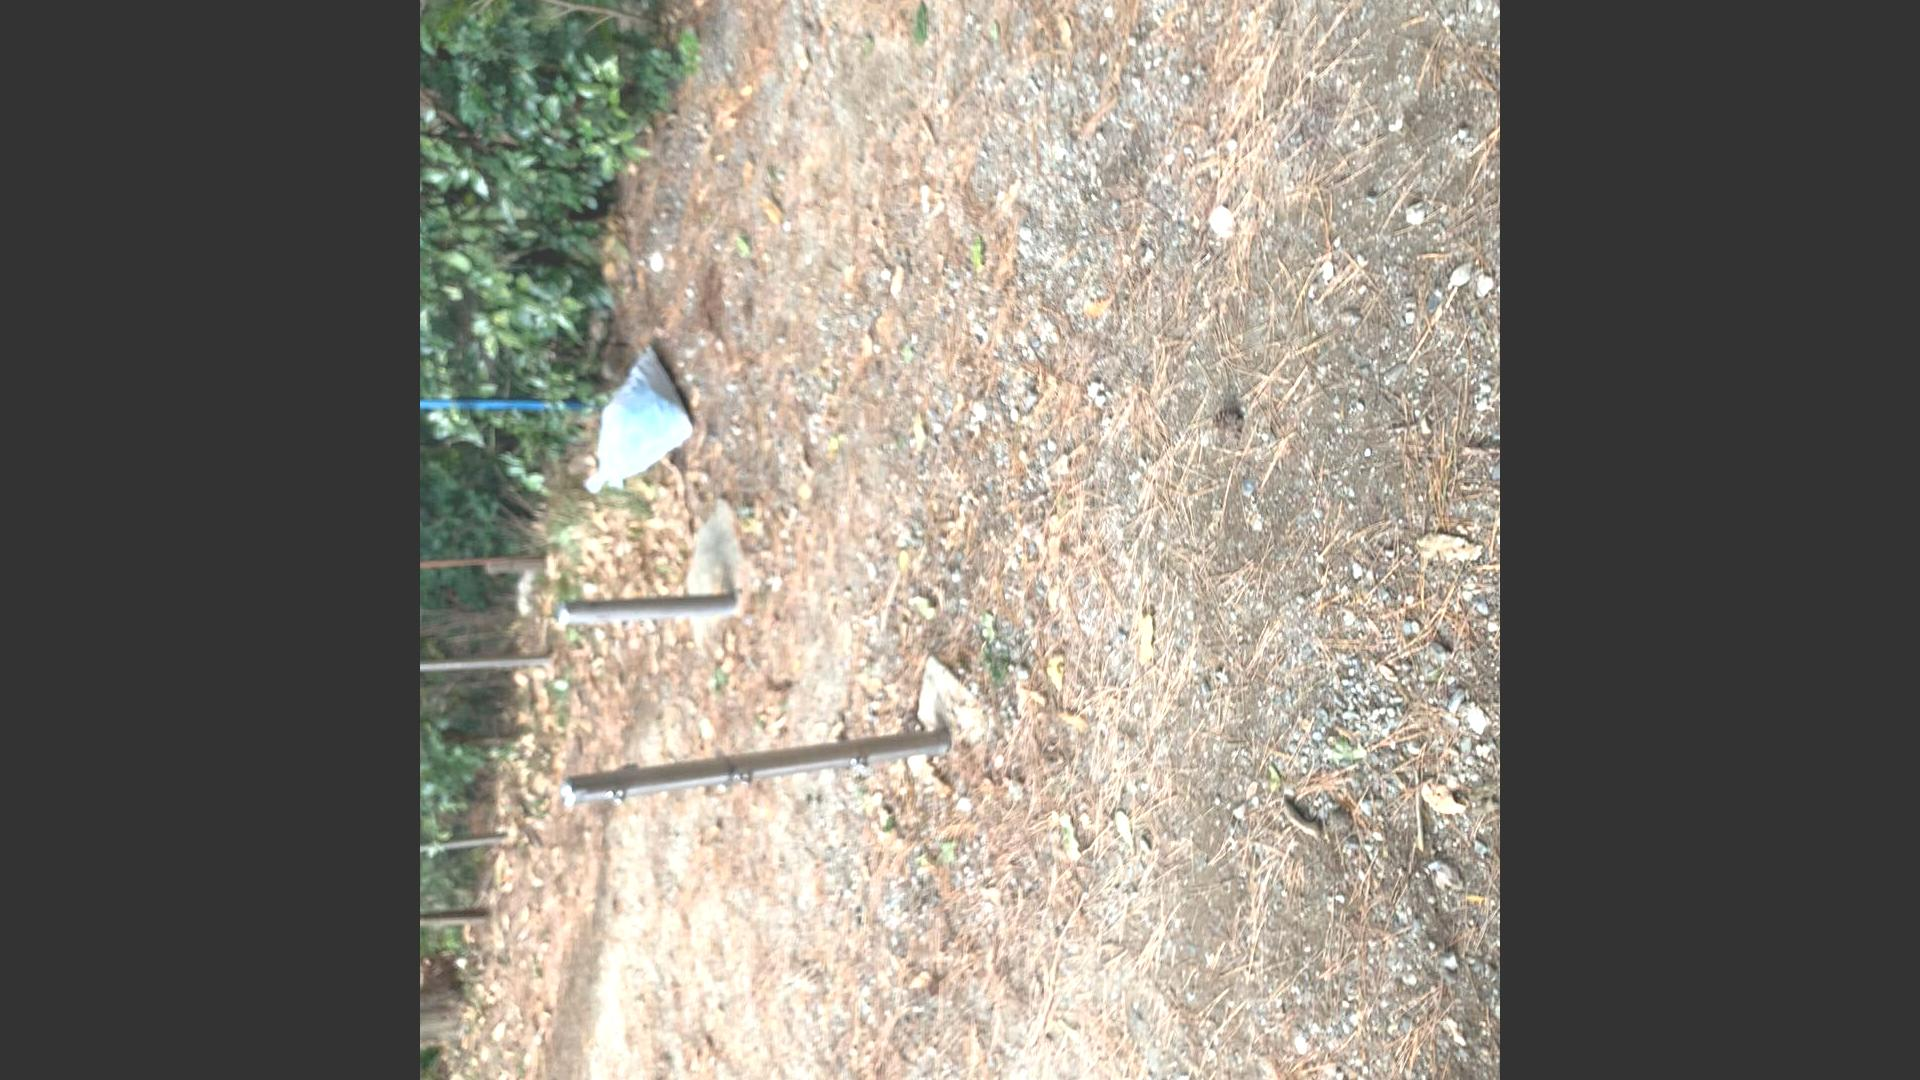white_bag: (572, 328, 703, 502)
